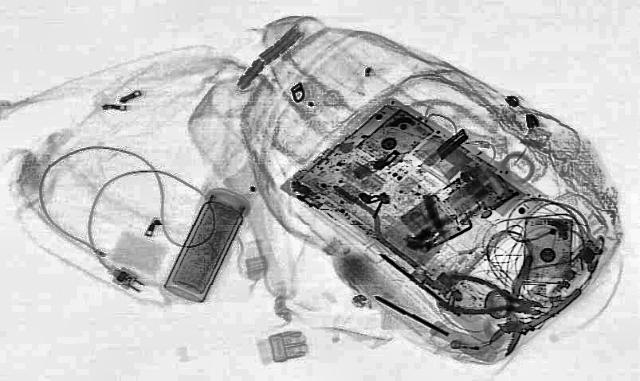Pliers: (456, 254, 598, 362), (426, 271, 552, 327)
